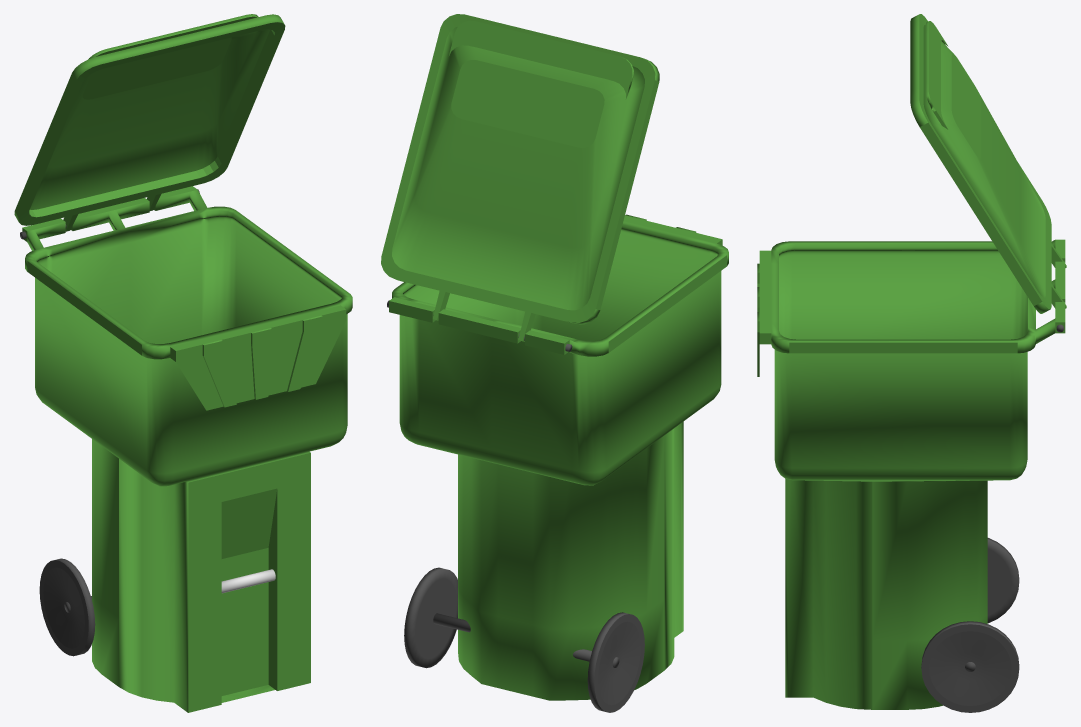
The model's file is trash_green.glb.
The picture shows the model from 3 angles, left to right: view 1: azimuth 30°, elevation 25°; view 2: azimuth 150°, elevation 25°; view 3: azimuth 270°, elevation 25°; orthographic projection. The views are drawn at different scales.
Parts seen in each view (by area): view 1: Green Trash Cart, Green Lid; view 2: Green Trash Cart, Green Lid; view 3: Green Trash Cart, Green Lid.
Boxes of the visible parts, x1,y1,x2,y2 form: Green Trash Cart: (20,186,352,712); Green Lid: (14,14,285,231); Green Trash Cart: (387,214,728,712); Green Lid: (381,14,659,341); Green Trash Cart: (757,239,1065,712); Green Lid: (910,14,1066,313).
Bounding box in the file's own units: 2.59 × 7.28 × 3.34.
